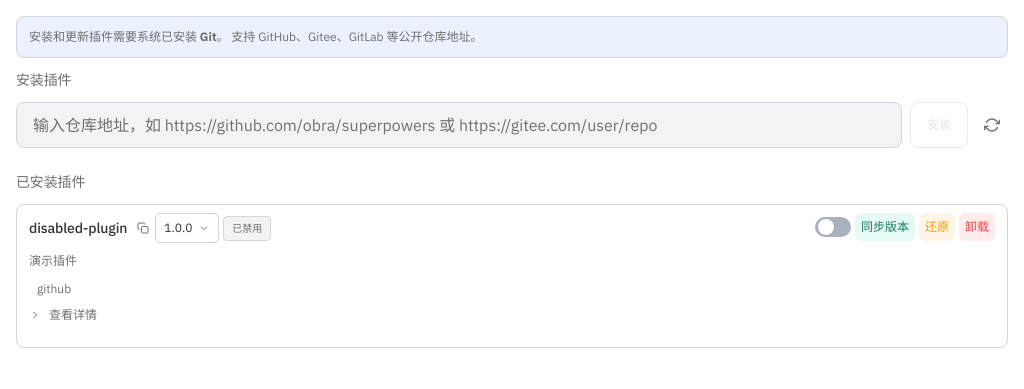
Test case: PluginDialog 红点按启用态过滤 › 禁用插件点「同步版本」：乐观更新写入 updateMap，但红点仍不亮
Step 1. Click the button "同步版本" → (885, 227), box [855, 213, 915, 241]
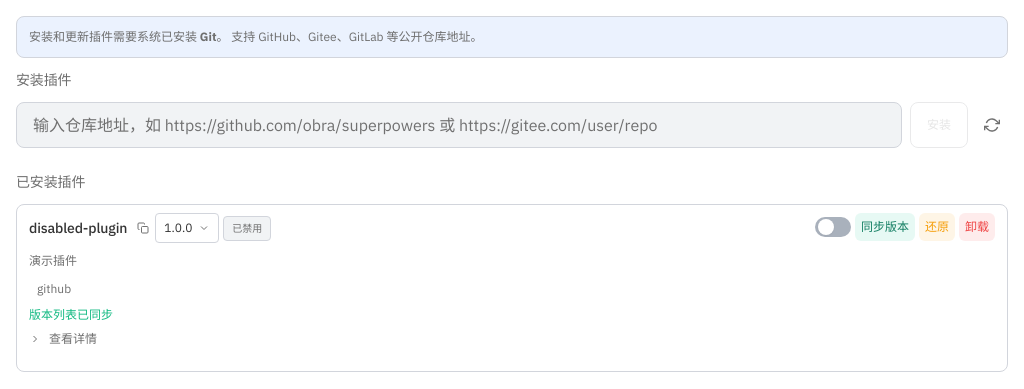
Expected: the text "版本列表已同步" is shown, [29, 306, 113, 322]
